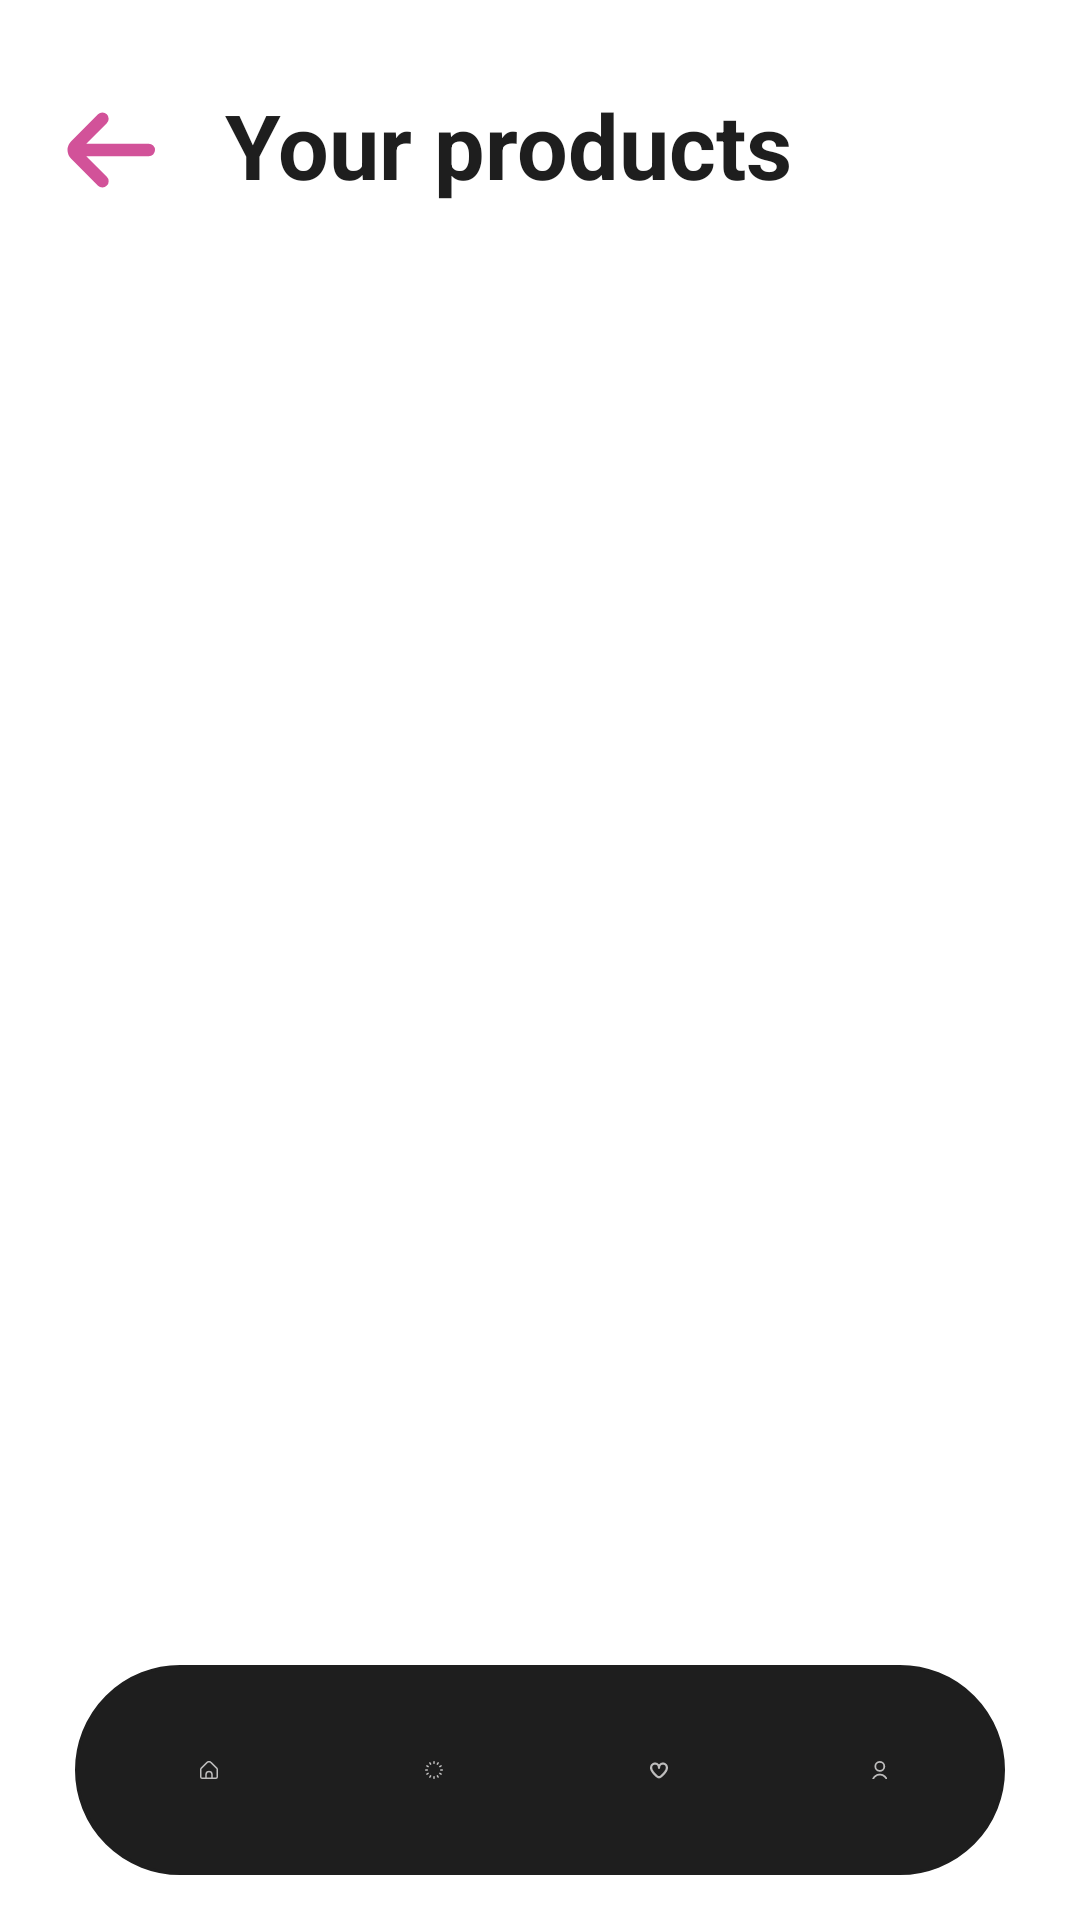

Icons on this 1080×1920 Android screen, each with its box as (x1, y1, x2, y2):
Go back: (67, 112, 155, 188)
